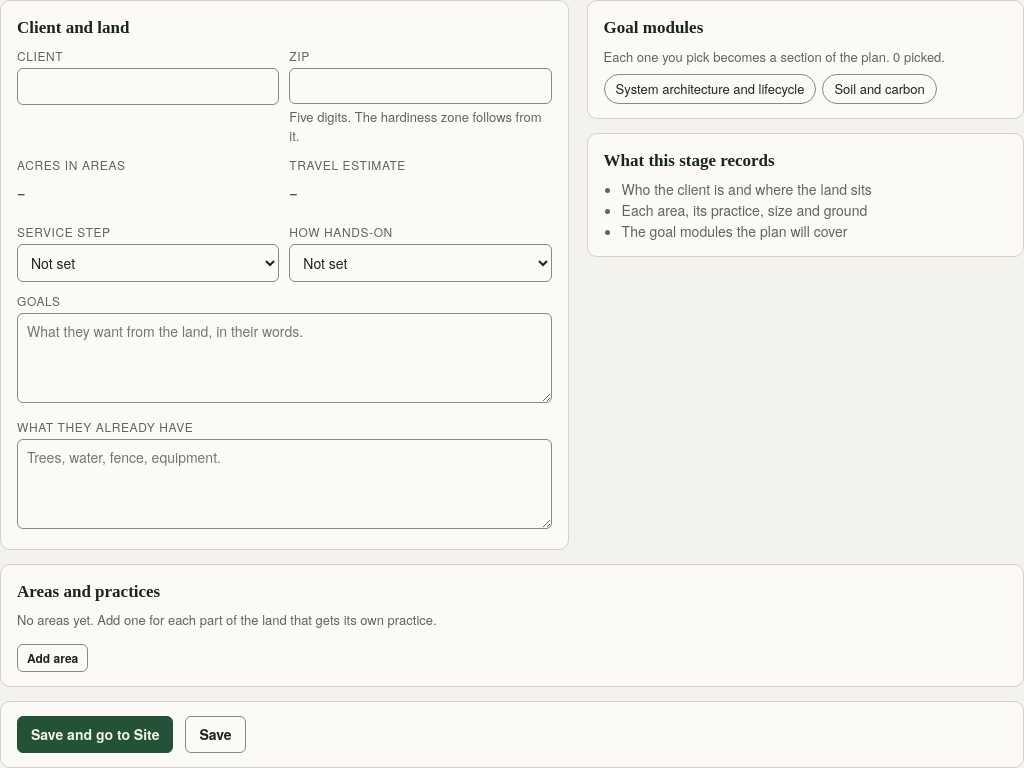
IntakeForm › says so when Odoo saved the client but dropped a field
Type "Sycamore Bend" into the field labelled "Client".
click(148, 86); type("Sycamore Bend")  # box [17, 68, 279, 104]
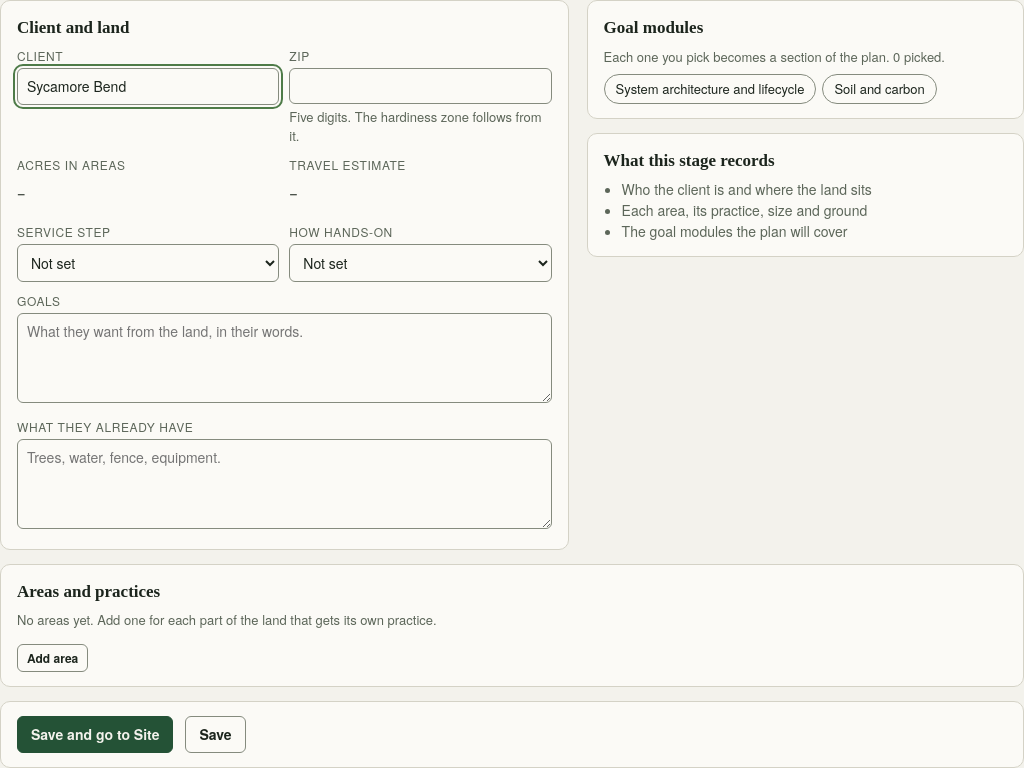
Click the button "Save".
click(216, 734)  # box [186, 716, 246, 752]
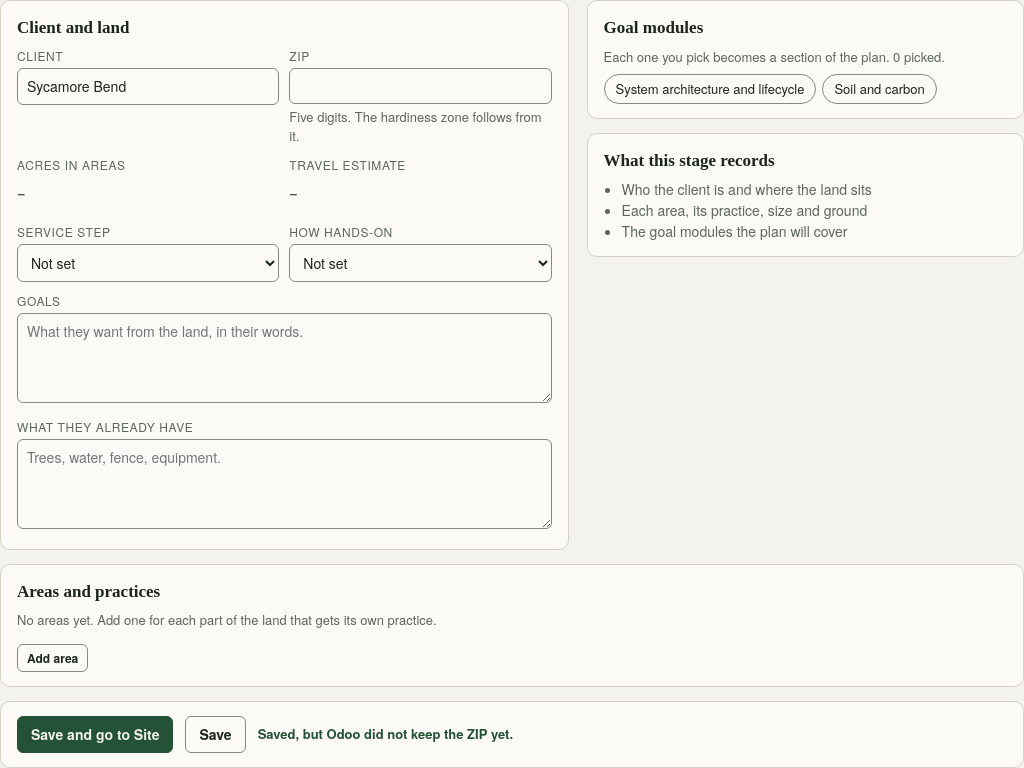
Expected: the text "Saved, but Odoo did not keep the ZIP yet." is shown, [258, 724, 513, 744]
